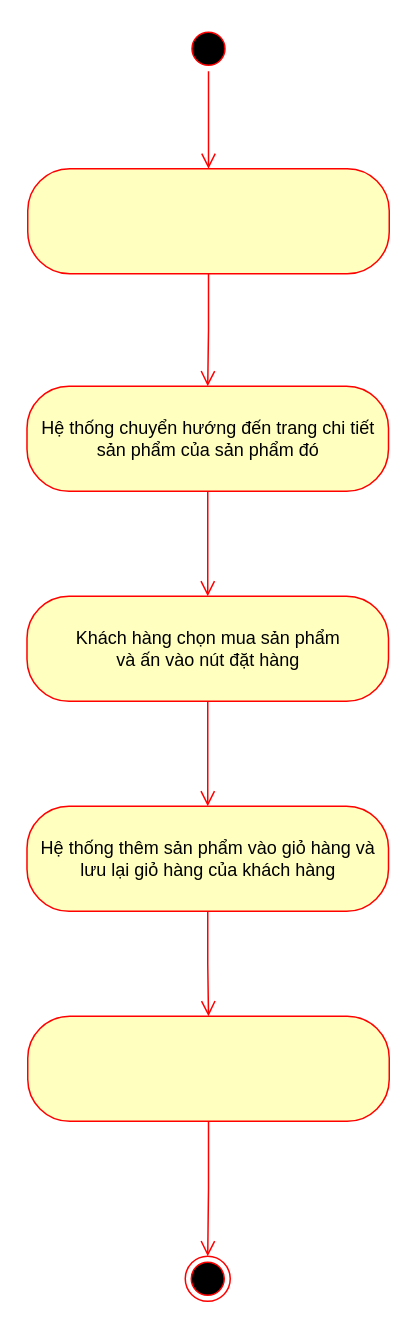
Some shapes in this 416 by 1328 pixel diagram are drawn without their labels. Here are the shapes that lost their labels. From the top down, the centre of each, then its label:
At (x=207, y=220): "Khách hàng click chuột vào một sản phẩm trên trang bán hàng".
At (x=207, y=1068): "Hệ thống hiển thị hoạt ảnh cho biết sản phẩm đã được thêm vào giỏ hàng.".
